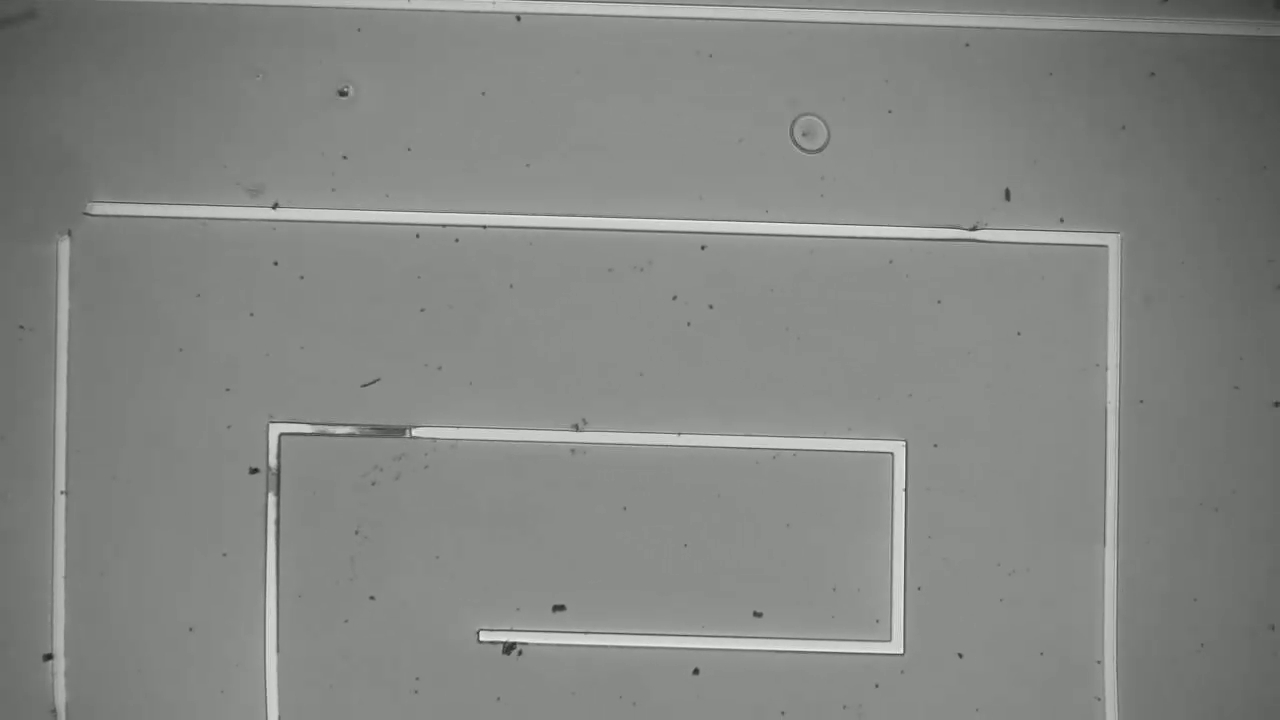gray_line: (340, 402, 434, 454), (260, 447, 293, 521)
open: (34, 176, 132, 274)
